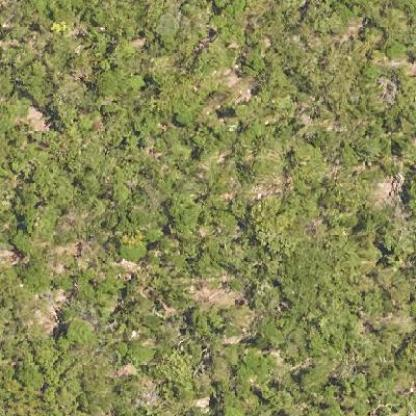tree-top: (242, 192, 305, 255), (147, 350, 206, 408)
